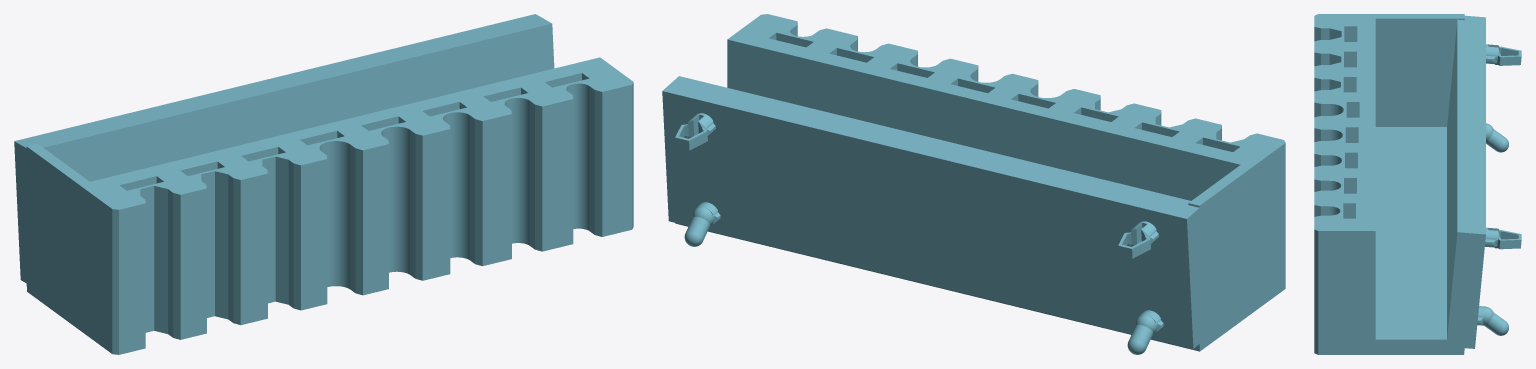
The model's file is part-ms01-i-p__current-mounts-v1__fit-pf02c9-hoop5__print.glb.
3 renders of one model, left to right at view 1: azimuth 30°, elevation 25°; view 2: azimuth 150°, elevation 25°; view 3: azimuth 270°, elevation 25°, orthographic. The views are drawn at different scales.
Parts seen in each view (by area): view 1: print.stl; view 2: print.stl; view 3: print.stl.
Boxes of the visible parts, x1,y1,x2,y2 form: print.stl: (14, 14, 633, 354); print.stl: (662, 14, 1285, 354); print.stl: (1314, 14, 1521, 354).
Size of the model in its own units: 0.1504 by 0.04 by 0.0607.
